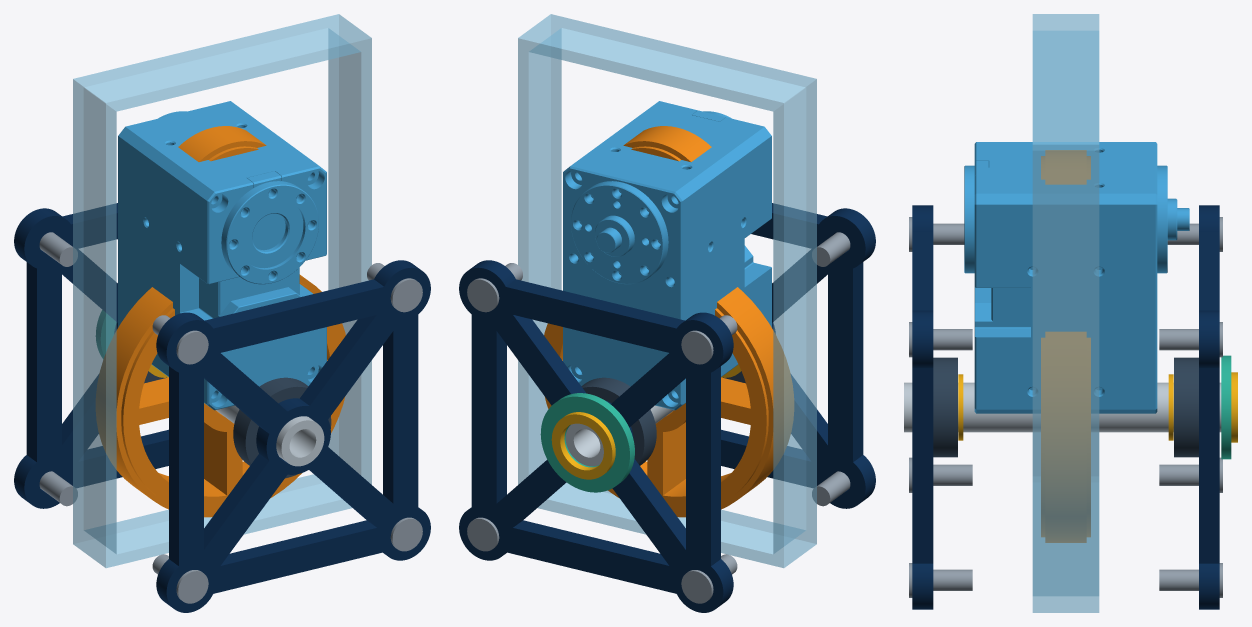
The model's file is JMF-09-KNEE-REDUCED-20_assembly.glb.
The picture shows the model from 3 angles, left to right: view 1: azimuth 30°, elevation 25°; view 2: azimuth 150°, elevation 25°; view 3: azimuth 270°, elevation 25°; orthographic projection.
Parts seen in each view (by area): view 1: TRANSMISSION_GUARD, CARRIER_A, ACTUATOR, CARRIER_B, OUTPUT_PULLEY, TIMING_BELT, OUTPUT_SHAFT, BEARING_A, CARRIER_A_SCREW_22, CARRIER_A_SCREW_21, CARRIER_A_SCREW_12, CARRIER_A_SCREW_11 (+3 smaller); view 2: TRANSMISSION_GUARD, CARRIER_B, ACTUATOR, CARRIER_A, OUTPUT_PULLEY, TIMING_BELT, OUTPUT_ENCODER_CARRIER, OUTPUT_MAGNET_HUB, BEARING_B, OUTPUT_SHAFT, CARRIER_B_SCREW_22, CARRIER_B_SCREW_21 (+4 smaller); view 3: ACTUATOR, TRANSMISSION_GUARD, TIMING_BELT, CARRIER_A, CARRIER_B, OUTPUT_SHAFT, BEARING_A, BEARING_B, OUTPUT_PULLEY, OUTPUT_ENCODER_CARRIER, CARRIER_A_SCREW_12, CARRIER_A_SCREW_21 (+7 smaller).
Boxes of the visible parts, box(x1,y1,x2,y2) form: TRANSMISSION_GUARD: box(73, 14, 371, 567); CARRIER_A: box(156, 260, 430, 612); ACTUATOR: box(118, 101, 326, 410); CARRIER_B: box(14, 203, 168, 508); OUTPUT_PULLEY: box(121, 282, 342, 513); TIMING_BELT: box(96, 126, 345, 517); OUTPUT_SHAFT: box(216, 405, 324, 466); BEARING_A: box(233, 377, 331, 478); CARRIER_A_SCREW_22: box(152, 315, 208, 364); CARRIER_A_SCREW_21: box(152, 554, 208, 603); CARRIER_A_SCREW_12: box(367, 263, 422, 312); CARRIER_A_SCREW_11: box(390, 517, 422, 551); TRANSMISSION_GUARD: box(518, 14, 816, 567); CARRIER_B: box(459, 260, 733, 612); ACTUATOR: box(563, 101, 771, 410); CARRIER_A: box(721, 203, 875, 508); OUTPUT_PULLEY: box(547, 308, 768, 513); TIMING_BELT: box(544, 126, 793, 517); OUTPUT_ENCODER_CARRIER: box(540, 393, 634, 492); OUTPUT_MAGNET_HUB: box(551, 412, 615, 479); BEARING_B: box(581, 377, 656, 465); OUTPUT_SHAFT: box(565, 405, 673, 466); CARRIER_B_SCREW_22: box(681, 315, 737, 364); CARRIER_B_SCREW_21: box(681, 554, 737, 603); ACTUATOR: box(964, 142, 1189, 413); TRANSMISSION_GUARD: box(1032, 14, 1099, 612); TIMING_BELT: box(1045, 150, 1086, 542); CARRIER_A: box(912, 205, 933, 609); CARRIER_B: box(1199, 205, 1219, 609); OUTPUT_SHAFT: box(904, 382, 1221, 432); BEARING_A: box(933, 357, 957, 457); BEARING_B: box(1174, 357, 1198, 457); OUTPUT_PULLEY: box(1041, 338, 1090, 536); OUTPUT_ENCODER_CARRIER: box(1221, 355, 1231, 459); CARRIER_A_SCREW_12: box(909, 322, 972, 357); CARRIER_A_SCREW_21: box(909, 457, 972, 492).
Size of the model in its own units: 74.52 by 126 by 80.4.
